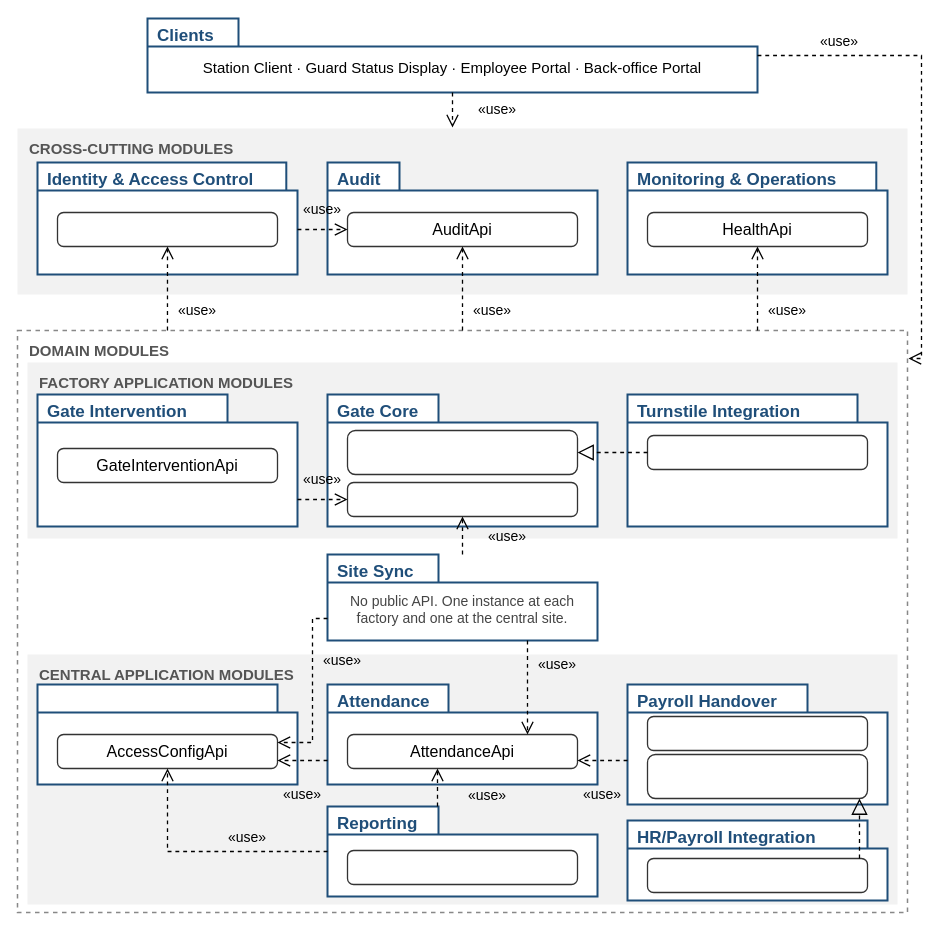
Some shapes in this 952 by 930 pixel diagram are drawn without their labels. Each missing label, with the box of its shape:
Access & Configuration: (36, 683, 298, 785)
AuthorizationApi: (56, 211, 278, 247)
GateCoreApi: (346, 481, 578, 517)
HrPayrollAdapter: (646, 857, 868, 893)
PayrollHandoverApi: (646, 715, 868, 751)
ReportApi: (346, 849, 578, 885)
TurnstileAdapter: (646, 434, 868, 470)
«port» IPayrollSubmission: (646, 753, 868, 799)
«port» ITurnstileControl: (346, 429, 578, 475)
